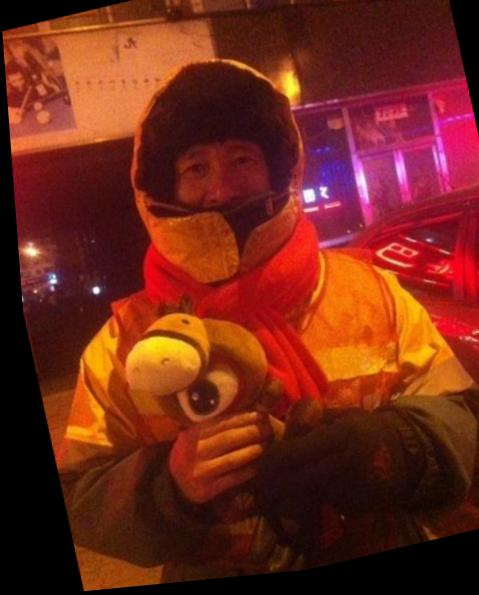WRONG: (151, 121, 283, 248)
